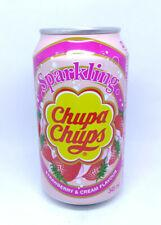metal: (33, 28, 128, 206)
